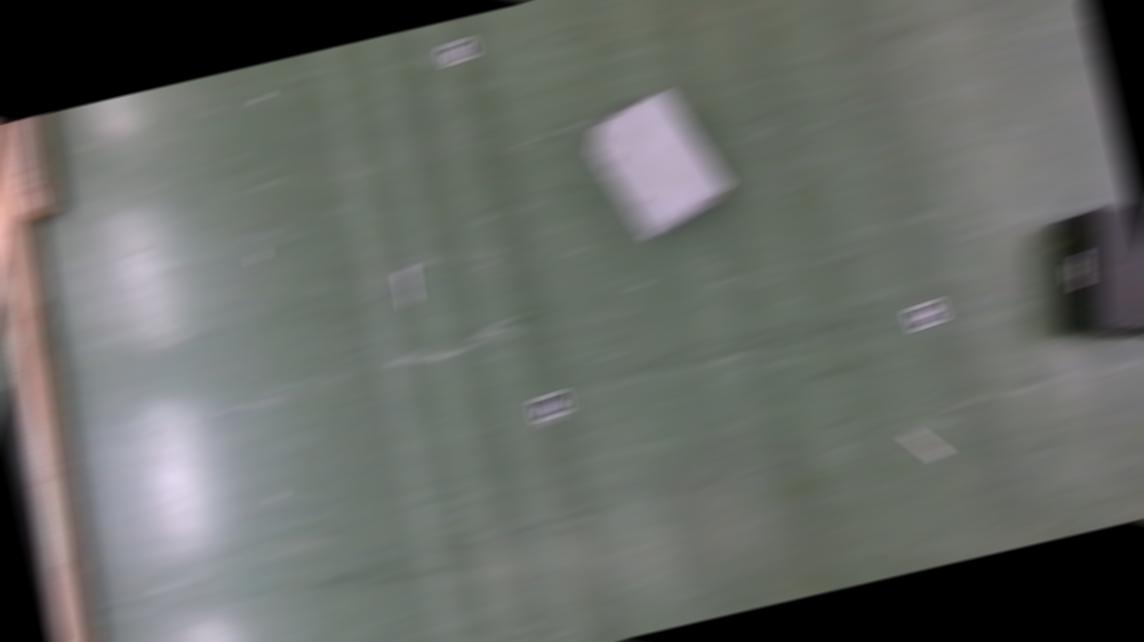probes: (904, 427, 946, 465), (395, 267, 421, 307)
rako: (579, 83, 738, 248), (1031, 201, 1144, 353)
